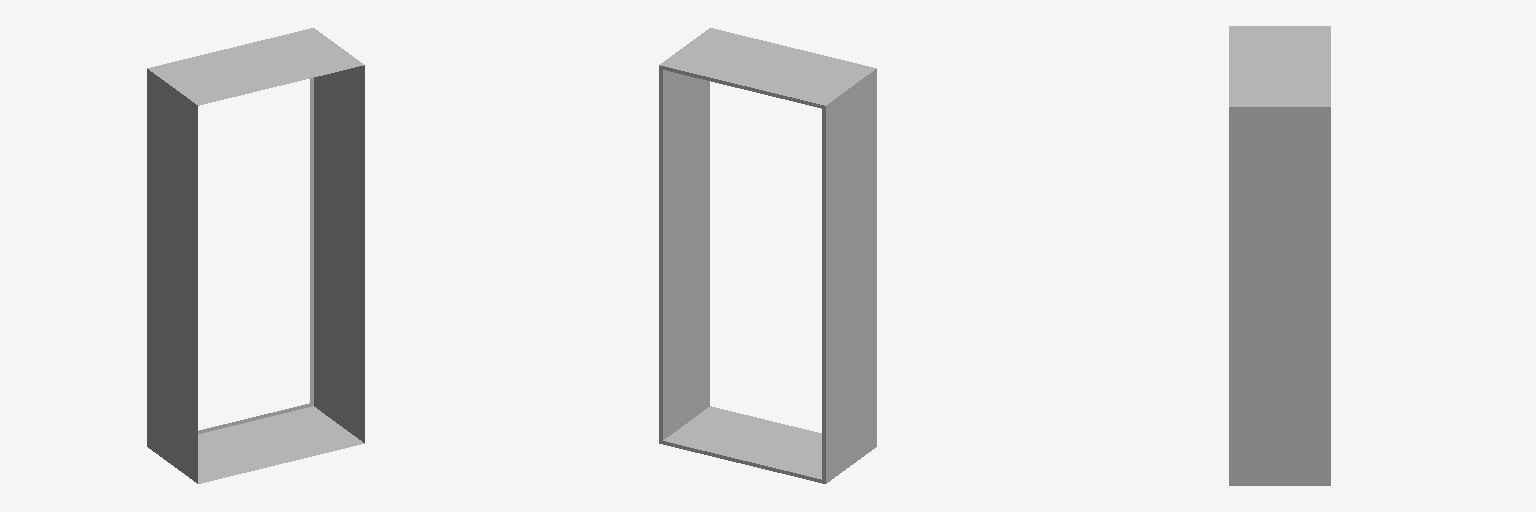
File: original-18.obj
3 renders of one model, left to right at view 1: azimuth 30°, elevation 25°; view 2: azimuth 150°, elevation 25°; view 3: azimuth 270°, elevation 25°, orthographic.
Visible parts, largest first — view 1: #ID145; view 2: #ID145; view 3: #ID145.
Part boxes in pixels (left/top/right/bottom): #ID145: left=147, top=28, right=364, bottom=483; #ID145: left=659, top=28, right=876, bottom=483; #ID145: left=1229, top=26, right=1330, bottom=485.
Size of the model in its own units: 0.1116 by 0.2421 by 0.0593.